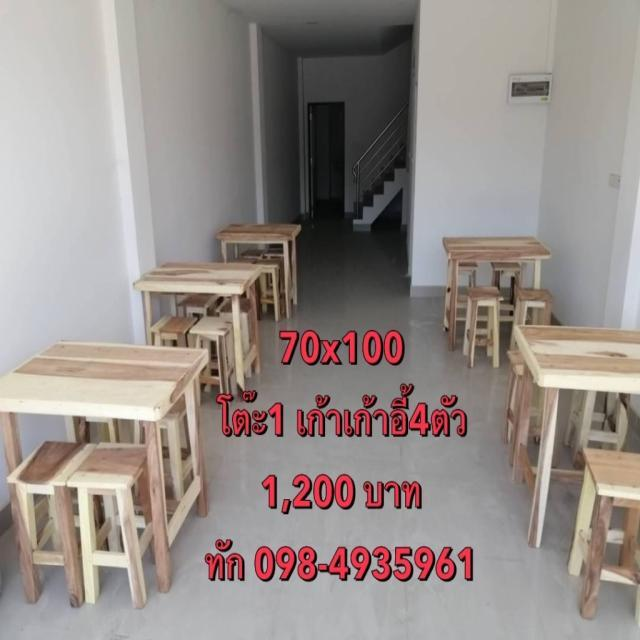table: (7, 336, 210, 448), (503, 316, 637, 408), (130, 235, 273, 313), (434, 224, 558, 299)
